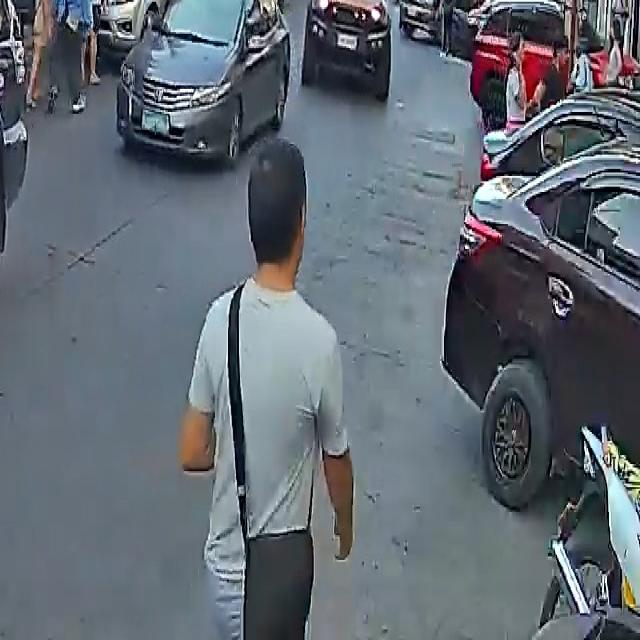car: (444, 103, 640, 527), (114, 0, 300, 165), (0, 0, 52, 587), (472, 0, 640, 142), (300, 0, 389, 98), (74, 0, 199, 69), (403, 0, 489, 48), (304, 0, 389, 18)
